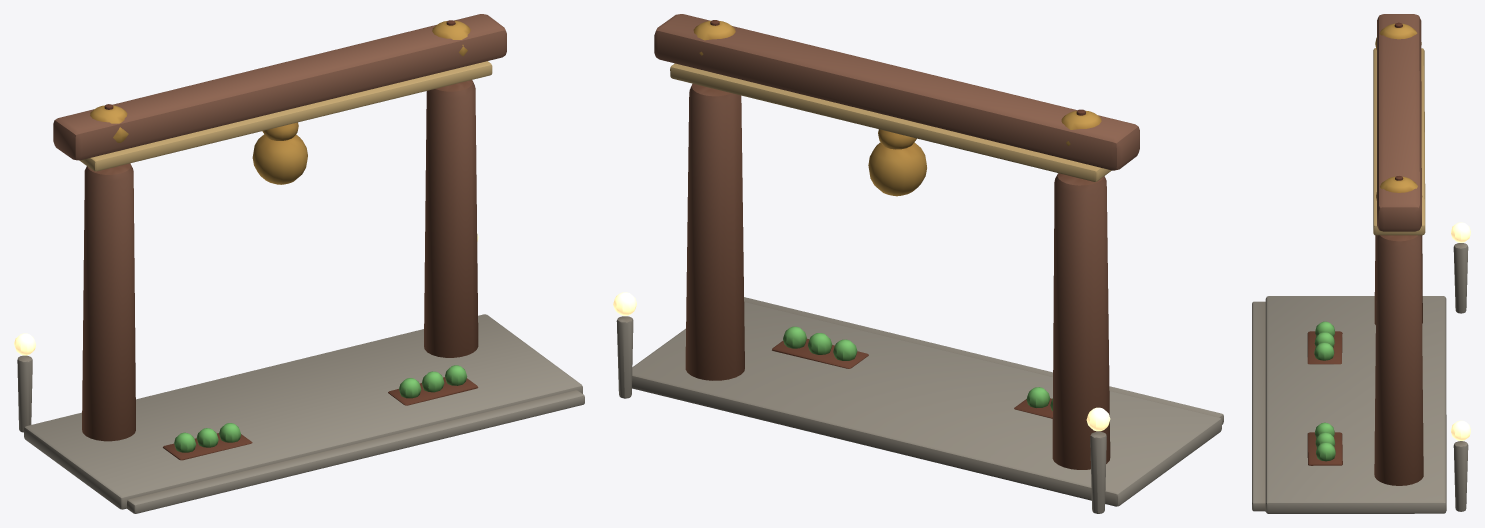
3 renders of one model, left to right at view 1: azimuth 30°, elevation 25°; view 2: azimuth 150°, elevation 25°; view 3: azimuth 270°, elevation 25°, orthographic. The views are drawn at different scales.
Visible parts, largest first — view 1: gate_315ba304; view 2: gate_315ba304; view 3: gate_315ba304.
Part boxes in pixels (box(x1,y1,x2,y2)): gate_315ba304: box(14, 14, 584, 513); gate_315ba304: box(613, 14, 1223, 513); gate_315ba304: box(1252, 14, 1470, 513).
Size of the model in its own units: 5.72 by 3.99 by 2.55.
